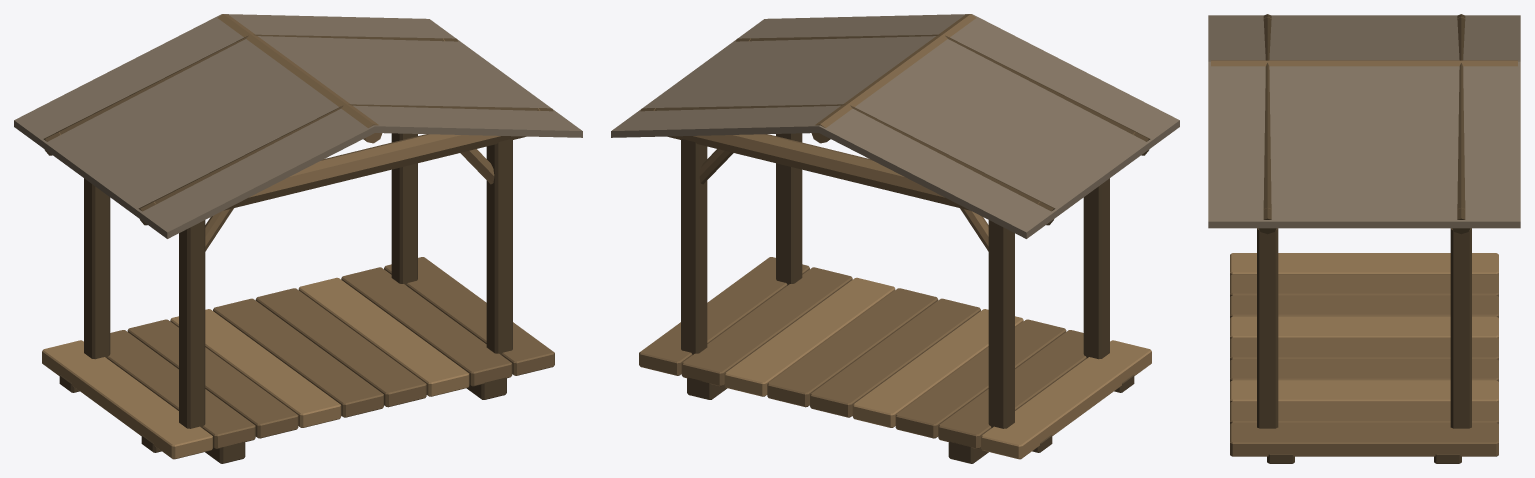
Rendered from courtyard-pergola.glb.
The picture shows the model from 3 angles, left to right: view 1: azimuth 30°, elevation 25°; view 2: azimuth 150°, elevation 25°; view 3: azimuth 270°, elevation 25°; orthographic projection.
Visible parts, largest first — view 1: courtyard-pergola__body; view 2: courtyard-pergola__body; view 3: courtyard-pergola__body.
Part boxes in pixels (x1=…): courtyard-pergola__body: x1=14, y1=14, x2=582, y2=463; courtyard-pergola__body: x1=611, y1=14, x2=1179, y2=463; courtyard-pergola__body: x1=1208, y1=14, x2=1520, y2=463.
Bounding box in the file's own units: 2.27 × 1.63 × 1.45.
